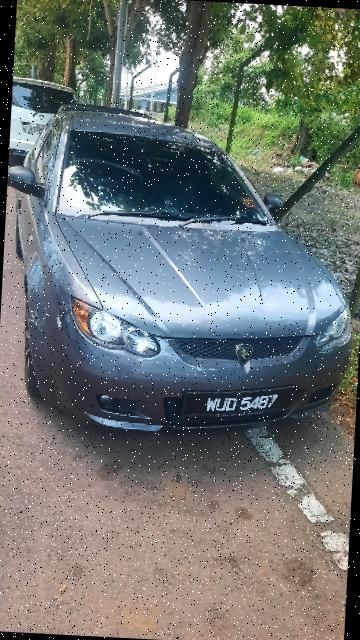License_Plate: (176, 377, 298, 426)
car: (1, 96, 360, 452)
